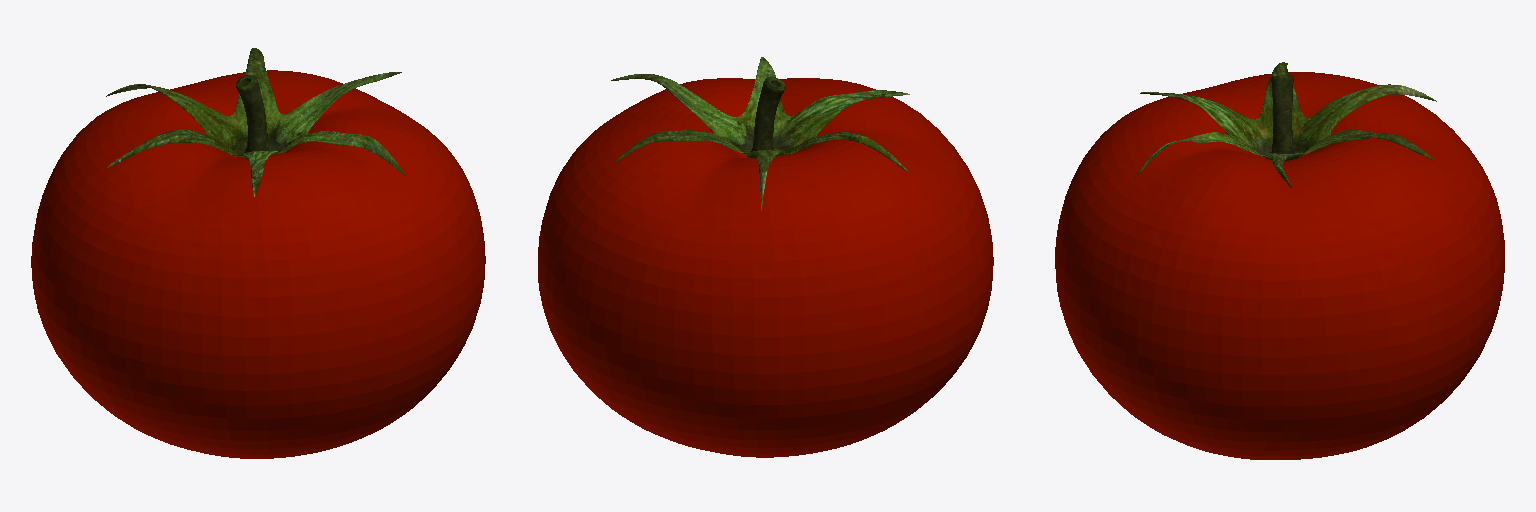
The picture shows the model from 3 angles: view 1: azimuth 30°, elevation 25°; view 2: azimuth 150°, elevation 25°; view 3: azimuth 270°, elevation 25°; orthographic projection.
Parts seen in each view (by area): view 1: Tomato_01; view 2: Tomato_01; view 3: Tomato_01.
Part boxes in pixels (x1,y1,x2,y2): Tomato_01: (31,48,485,458); Tomato_01: (538,57,993,457); Tomato_01: (1055,62,1504,459).
Size of the model in its own units: 3.43 by 3 by 3.41.
Materials: 2 (1 with a texture image).